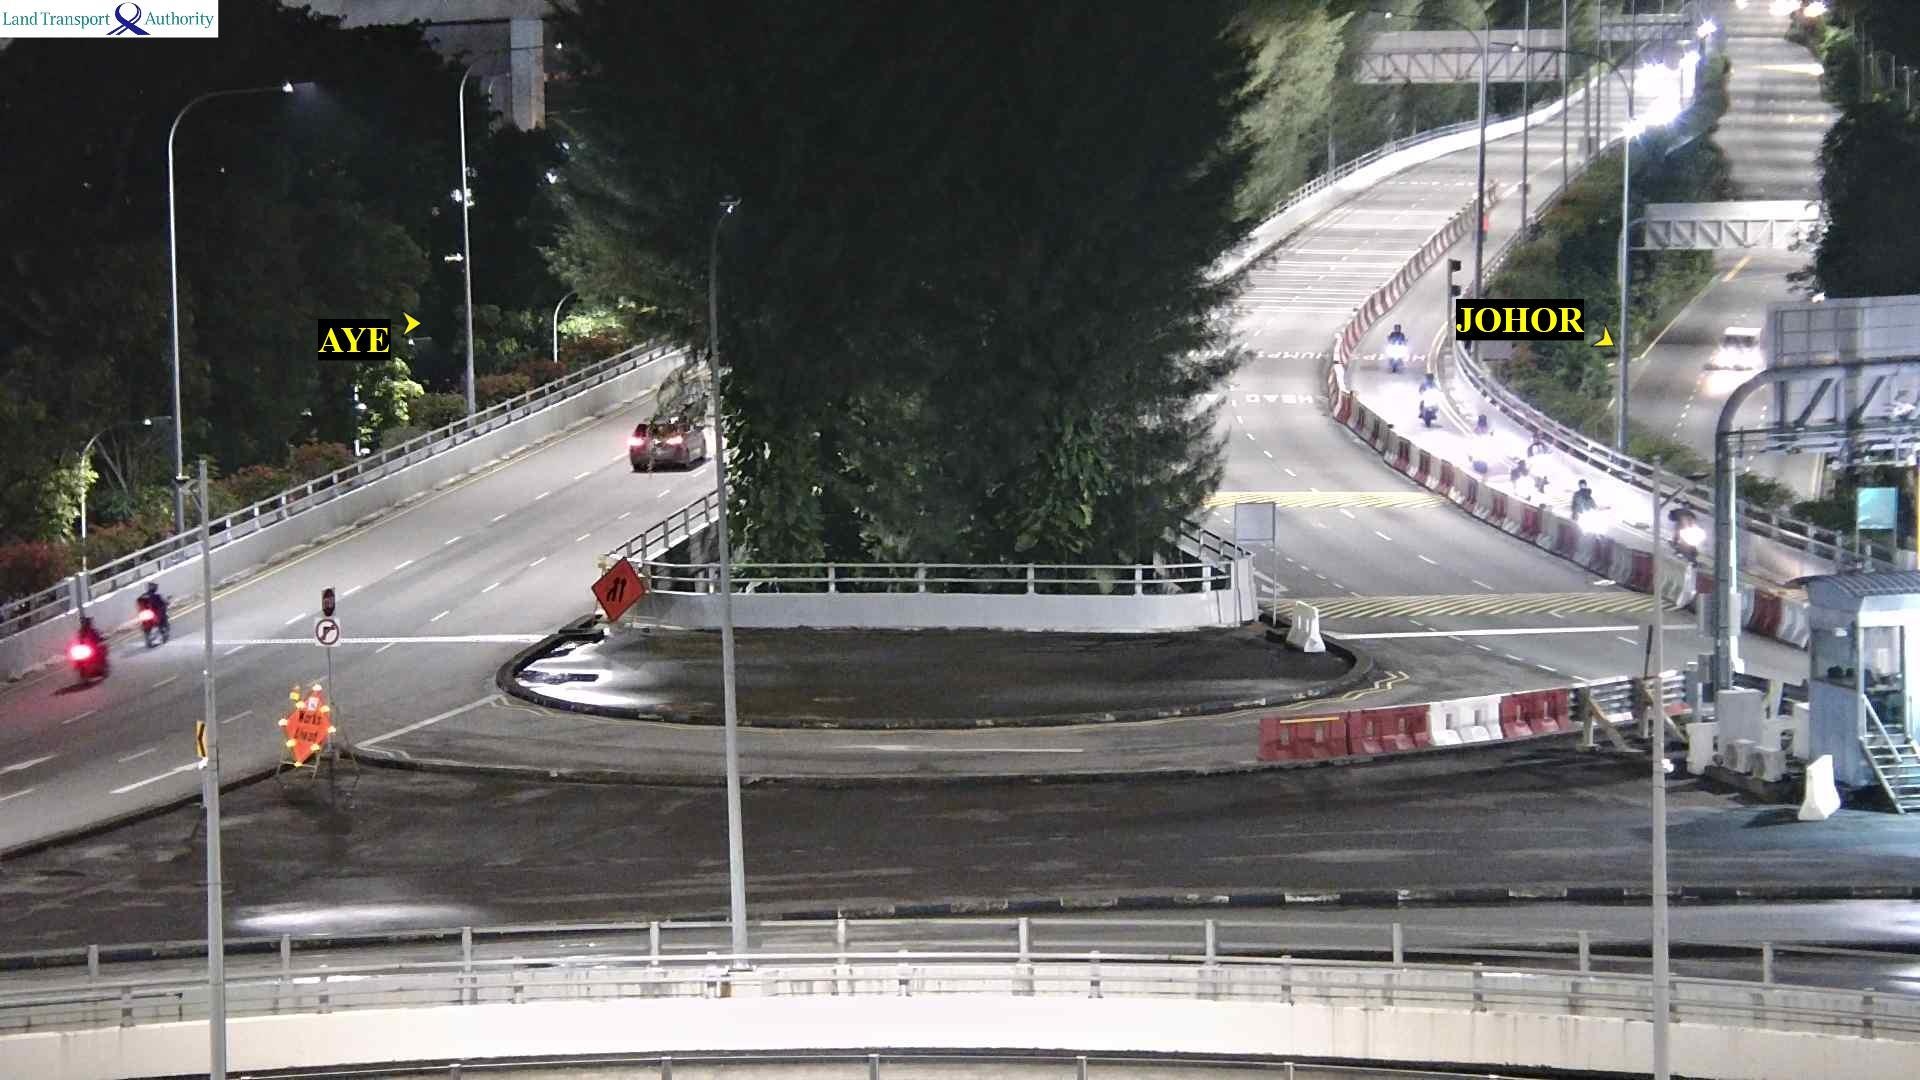vehicle-secondlink-johor: (1572, 481, 1605, 530), (1470, 411, 1490, 475), (1387, 328, 1411, 375), (1415, 394, 1440, 429), (1505, 459, 1527, 485)
vehicle-secondlink-singapore: (629, 421, 703, 473), (74, 626, 116, 686), (132, 584, 173, 640)
